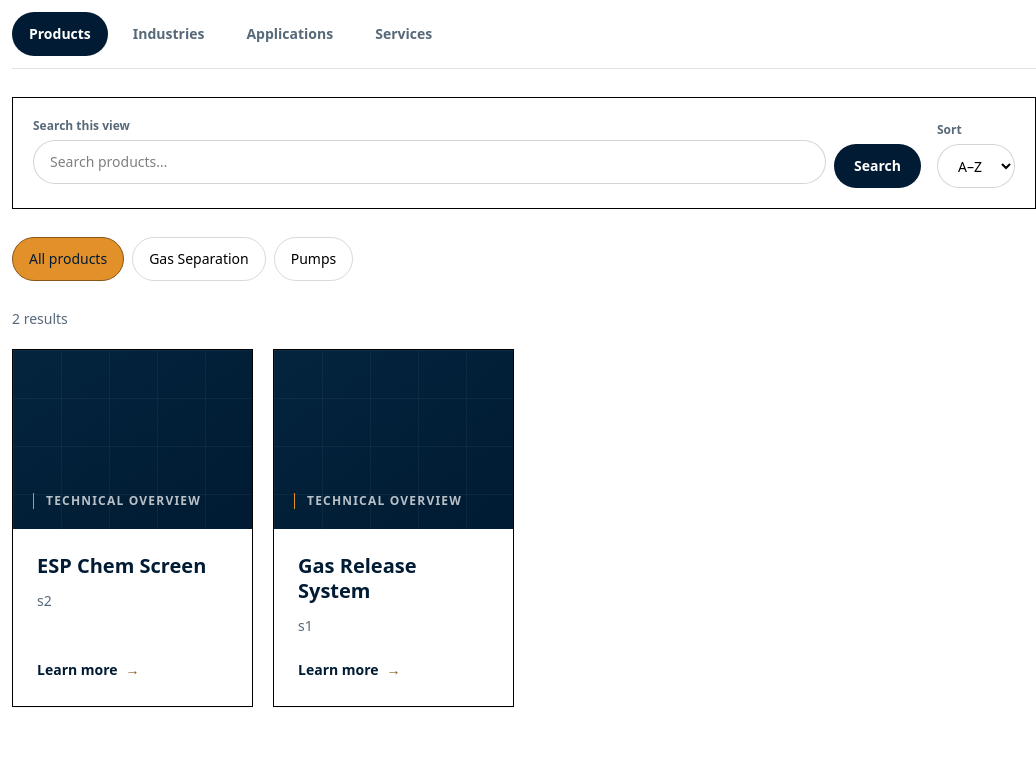
Test case: ProductGridClient generates routes via lib/routes.ts helpers › stores view and category filters in readable URL parameters
What coordinates should you click on to do the following:
click the button "Industries"
I would click on:
 (169, 34)
Its box is [116, 12, 221, 56].
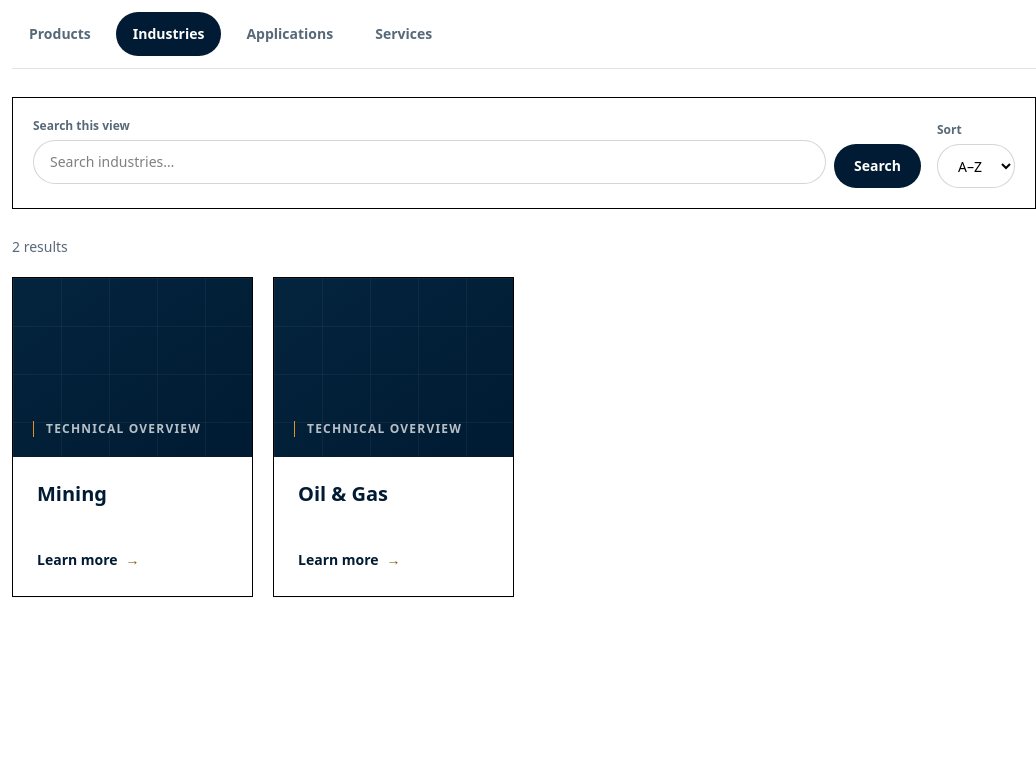
What coordinates should you click on to do the following:
click the button "Products"
I would click on:
 (60, 34)
Its box is [12, 12, 108, 56].
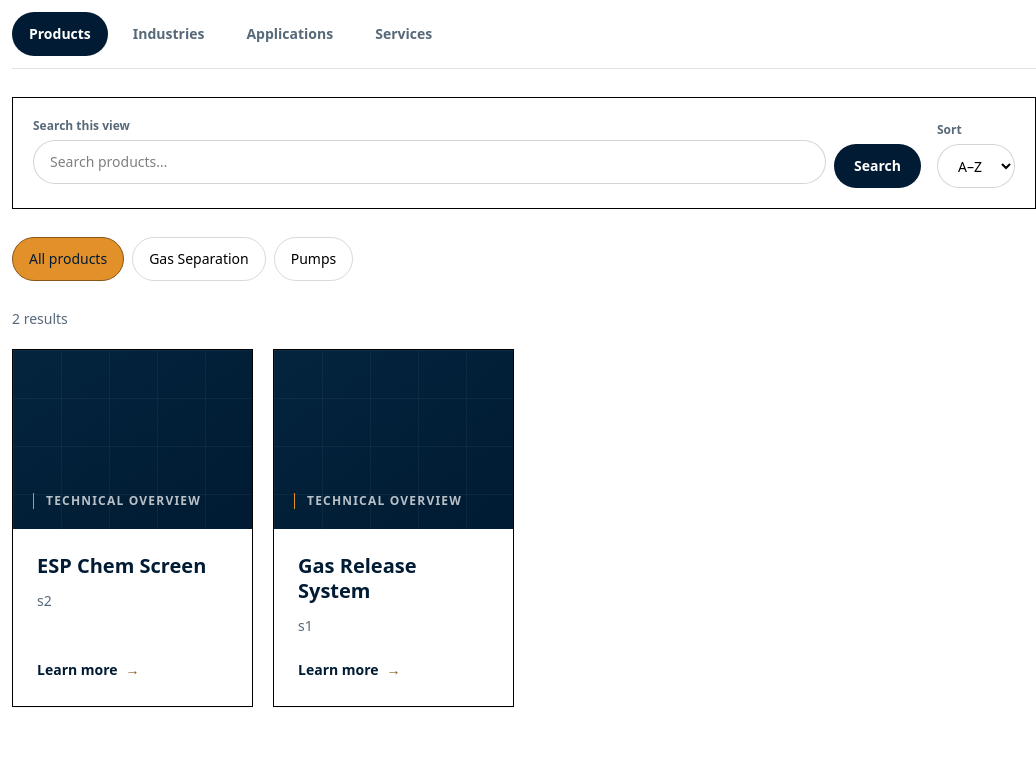
What coordinates should you click on to do the following:
click the button "Gas Separation"
I would click on:
 (199, 259)
Its box is [132, 237, 266, 281].
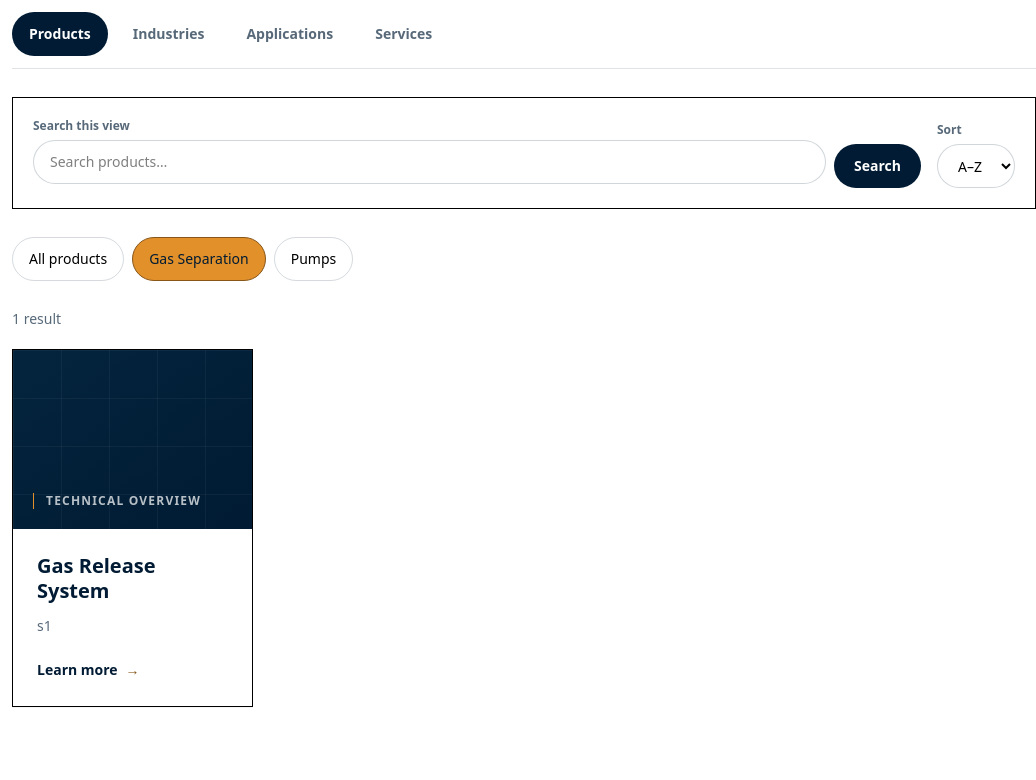
Expected: the text "1 result" is shown, [12, 309, 61, 328]
